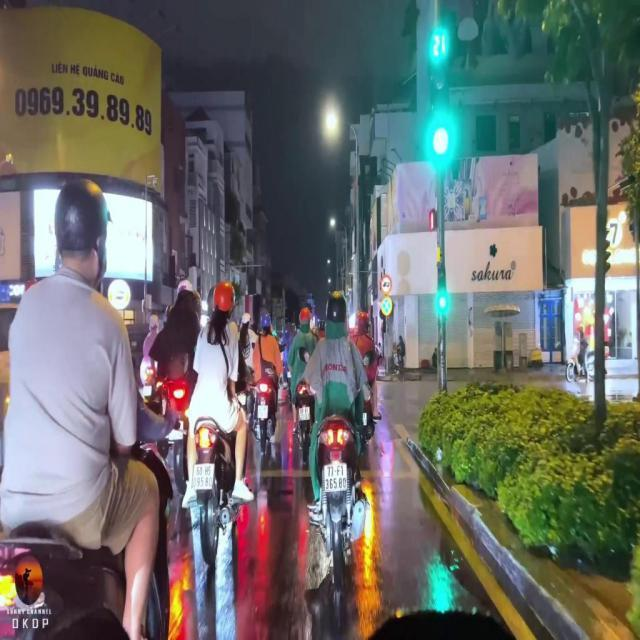106-cam-oto-tai: (381, 274, 392, 294)
